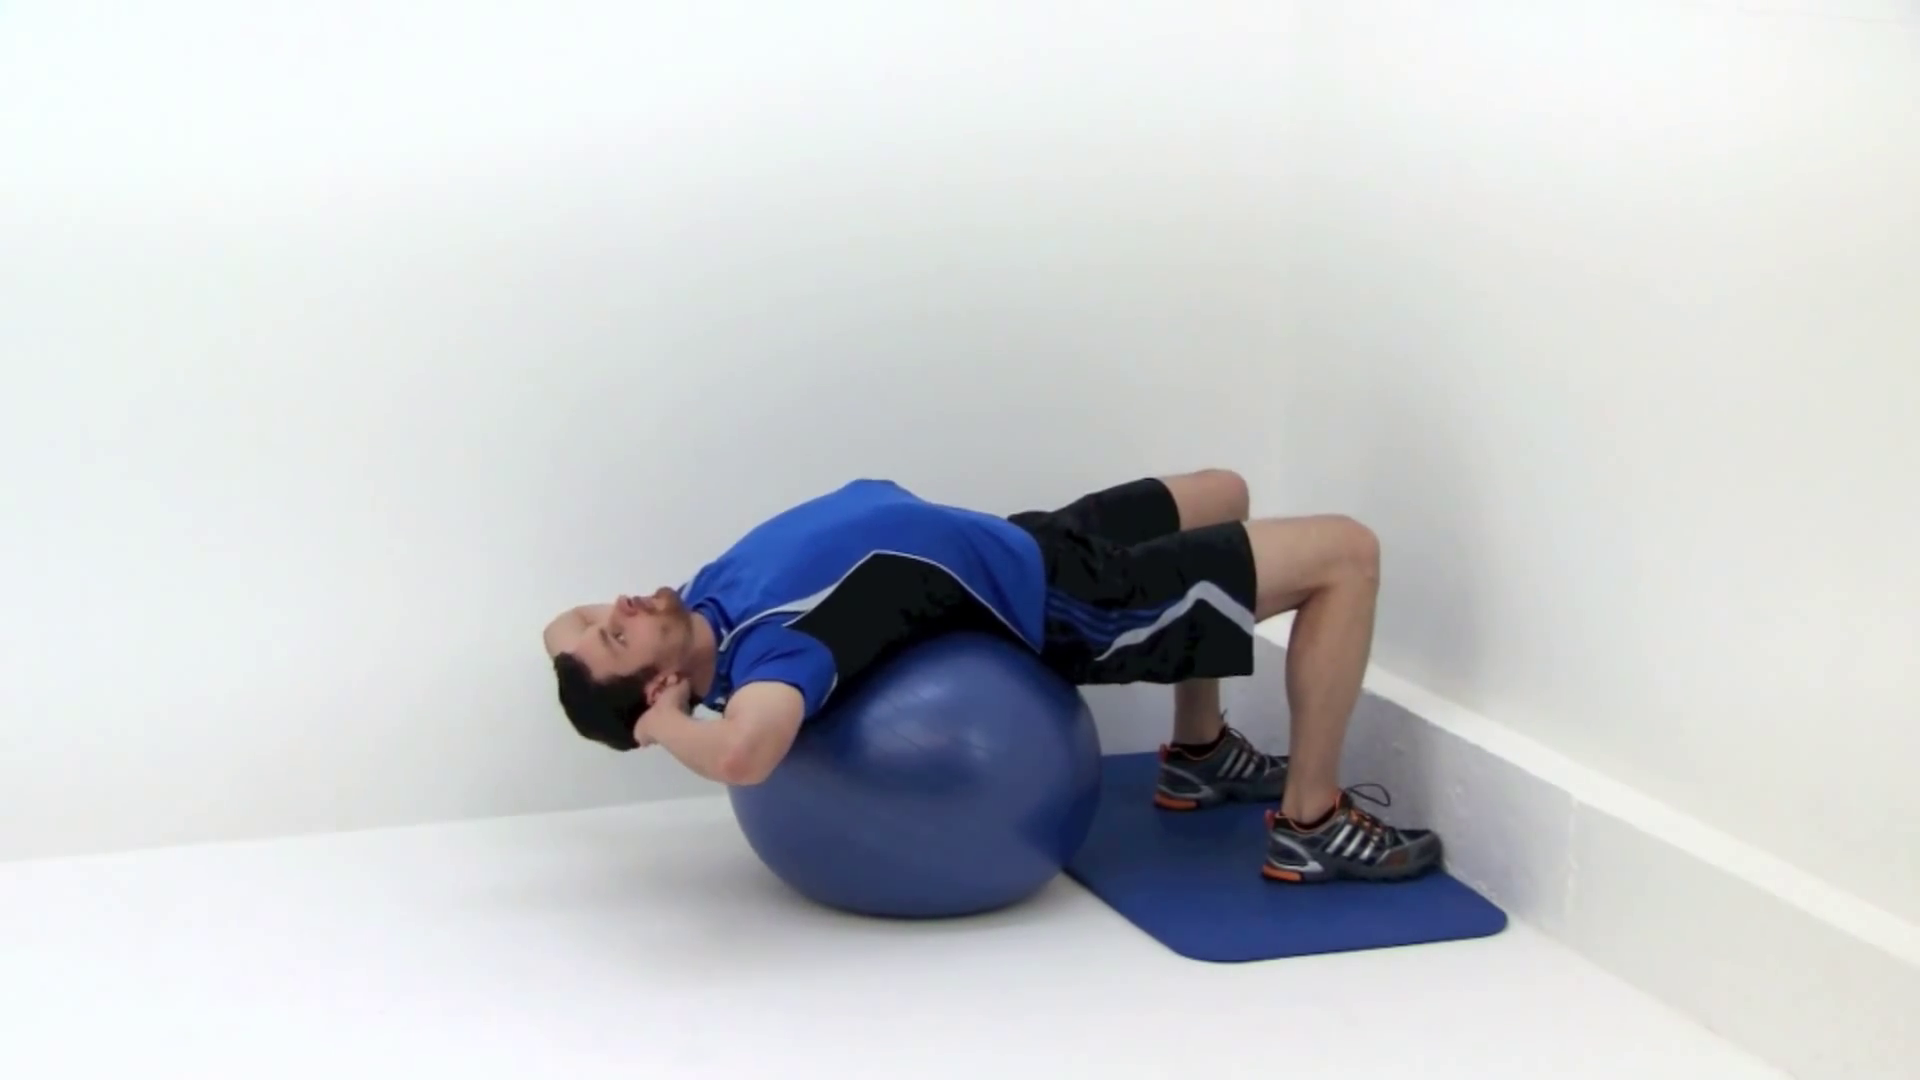yogaball: (717, 641, 1098, 928)
